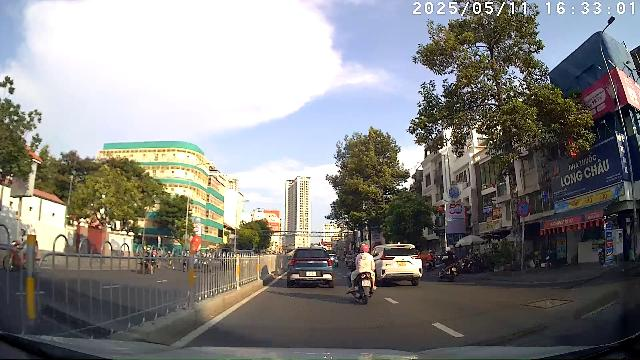130-cam-dung-va-do-xe: (517, 201, 531, 217)
